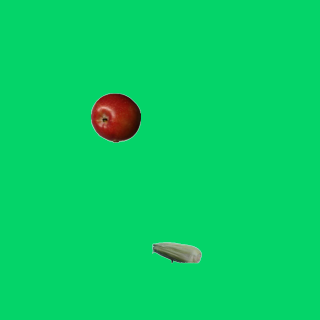Apple Braeburn: (90, 92, 140, 142)
Corn Husk: (151, 227, 201, 277)
